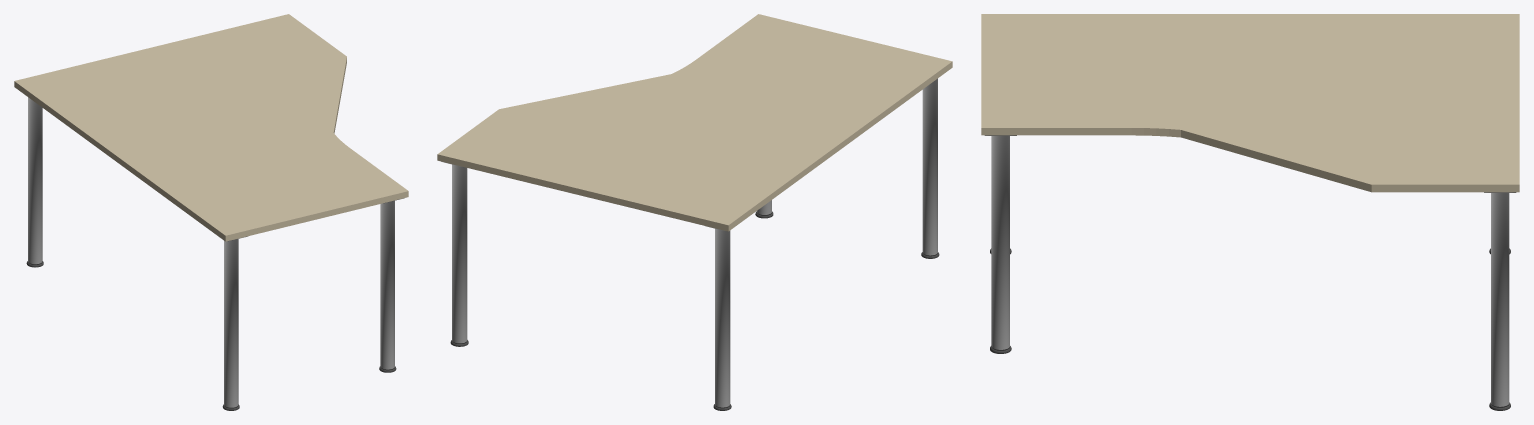
Rendered from desk_L-shaped.dae.
3 renders of one model, left to right at view 1: azimuth 30°, elevation 25°; view 2: azimuth 150°, elevation 25°; view 3: azimuth 270°, elevation 25°, orthographic. The views are drawn at different scales.
Visible parts, largest first — view 1: leg_downright4_Cylinder_015; view 2: leg_downright4_Cylinder_015; view 3: leg_downright4_Cylinder_015.
Boxes of the visible parts, bbox=[...] form: leg_downright4_Cylinder_015: bbox=[14, 14, 408, 410]; leg_downright4_Cylinder_015: bbox=[437, 14, 952, 410]; leg_downright4_Cylinder_015: bbox=[981, 14, 1519, 410].
Size of the model in its own units: 1.2 by 1.6 by 0.7538.
